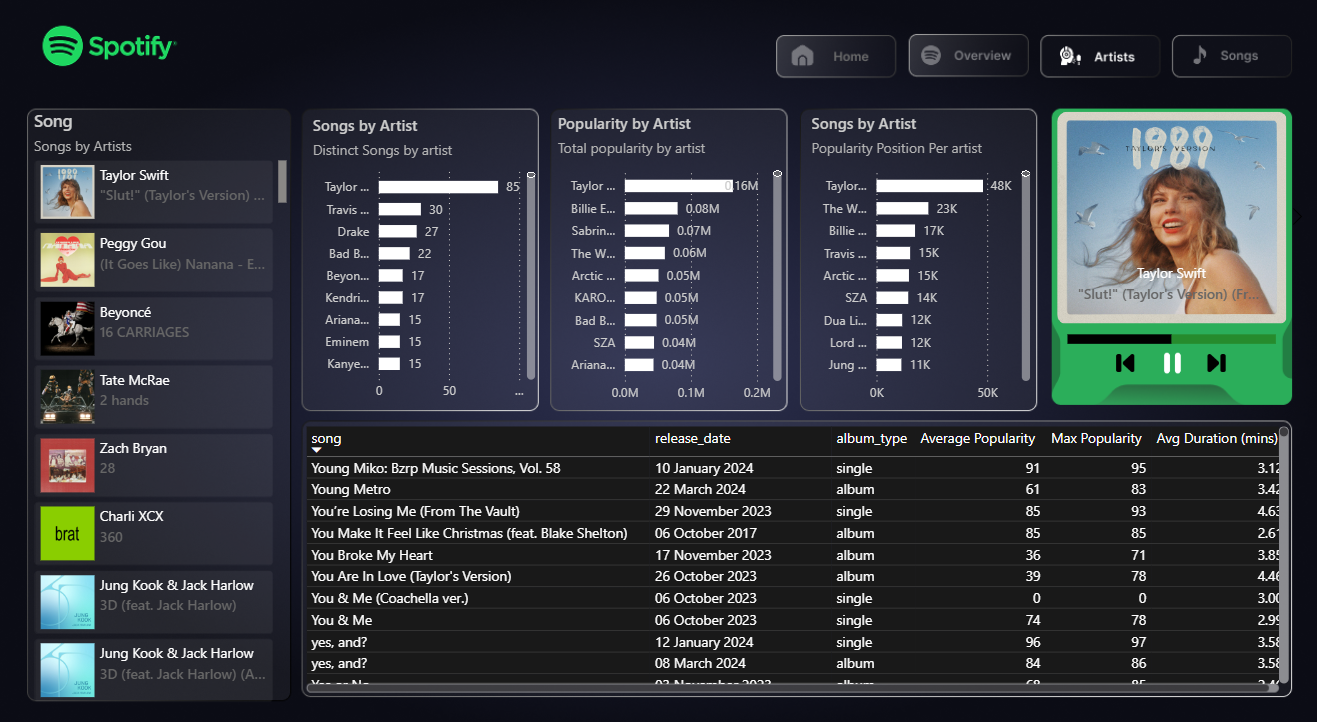

The page's visual inventory and layout, read from the dashboard file:
{"tool":"powerbi","page":{"name":"Artist","canvas":[1280,720],"ordinal":2},"visuals":[{"type":"actionButton","box":[753.8,39.9,117,39.8],"z":0},{"type":"actionButton","box":[884.1,39.9,114.6,39.8],"z":1000},{"type":"actionButton","box":[1010.7,39.9,111,42.2],"z":2000},{"type":"actionButton","box":[1136.2,41.1,107.4,39.8],"z":3000},{"type":"advancedSlicerVisual","title":"Song ","fields":{"Values":["Top-50-World.song"]},"box":[998.8,107.5,273.8,216.2],"z":4000},{"type":"hundredPercentStackedBarChart","fields":{"Y":["_Measures.Average Popularity","Avg(Top-50-World.popularity)"]},"box":[1030.3,298,211.1,63.9],"z":5000},{"type":"image","box":[1071.3,341.4,39.8,30.2],"z":6000},{"type":"image","box":[1159.4,341.4,39.8,30.2],"z":7000},{"type":"image","box":[1115.6,341.4,40,30],"z":8000},{"type":"advancedSlicerVisual","title":"Song ","fields":{"Values":["Top-50-World.song"]},"box":[32.6,111,254.6,581.5],"z":9000},{"type":"tableEx","fields":{"Values":["Top-50-World.song","Top-50-World.release_date","Top-50-World.album_type","_Measures.Average Popularity","_Measures.Max Popularity","_Measures.Avg Duration (mins)"]},"box":[294.4,412.6,959.1,266.6],"z":10000},{"type":"clusteredBarChart","title":"Popularity by Artist","fields":{"Y":["Sum(Top-50-World.popularity)"],"Category":["Top-50-World.artist"]},"box":[537.5,115,226.2,287.5],"z":11000},{"type":"clusteredBarChart","title":"Songs by Artist","fields":{"Category":["Top-50-World.artist"],"Y":["_Measures.Distinct Songs"]},"box":[301.2,116.2,225,285],"z":12000},{"type":"clusteredBarChart","title":"Songs by Artist","fields":{"Category":["Top-50-World.artist"],"Y":["Sum(Top-50-World.position)"]},"box":[782.5,115,221.2,287.5],"z":13000}]}

Visuals, with their boxes in screenshot pixels (x1, y1, x2, y2), scaled from the page's 1280x720 canvas onto the 1317x722 screenshot:
actionButton: 776:40:896:80
actionButton: 910:40:1028:80
actionButton: 1040:40:1154:82
actionButton: 1169:41:1280:81
"Song " advancedSlicerVisual: 1028:108:1309:325
hundredPercentStackedBarChart - _Measures.Average Popularity x Avg(Top-50-World.popularity): 1060:299:1277:363
image: 1102:342:1143:373
image: 1193:342:1234:373
image: 1148:342:1189:372
"Song " advancedSlicerVisual: 34:111:296:694
tableEx - Top-50-World.song x Top-50-World.release_date: 303:414:1290:681
"Popularity by Artist" clusteredBarChart: 553:115:786:404
"Songs by Artist" clusteredBarChart: 310:117:541:402
"Songs by Artist" clusteredBarChart: 805:115:1033:404
